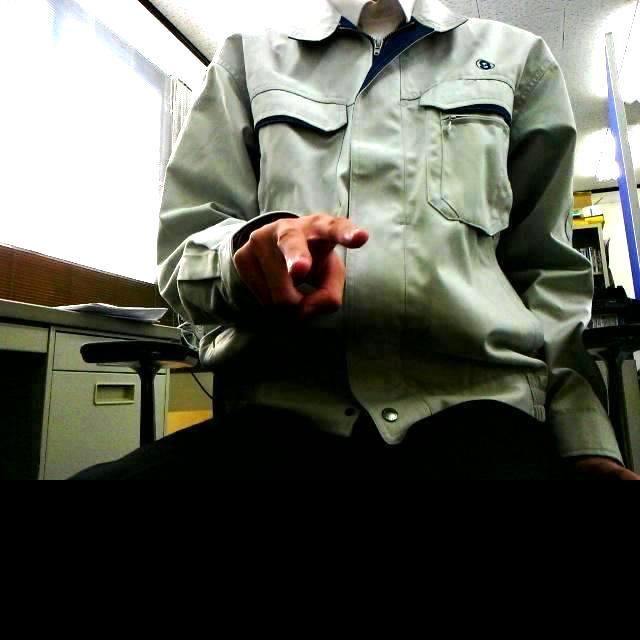tyoki: (233, 213, 371, 320)
